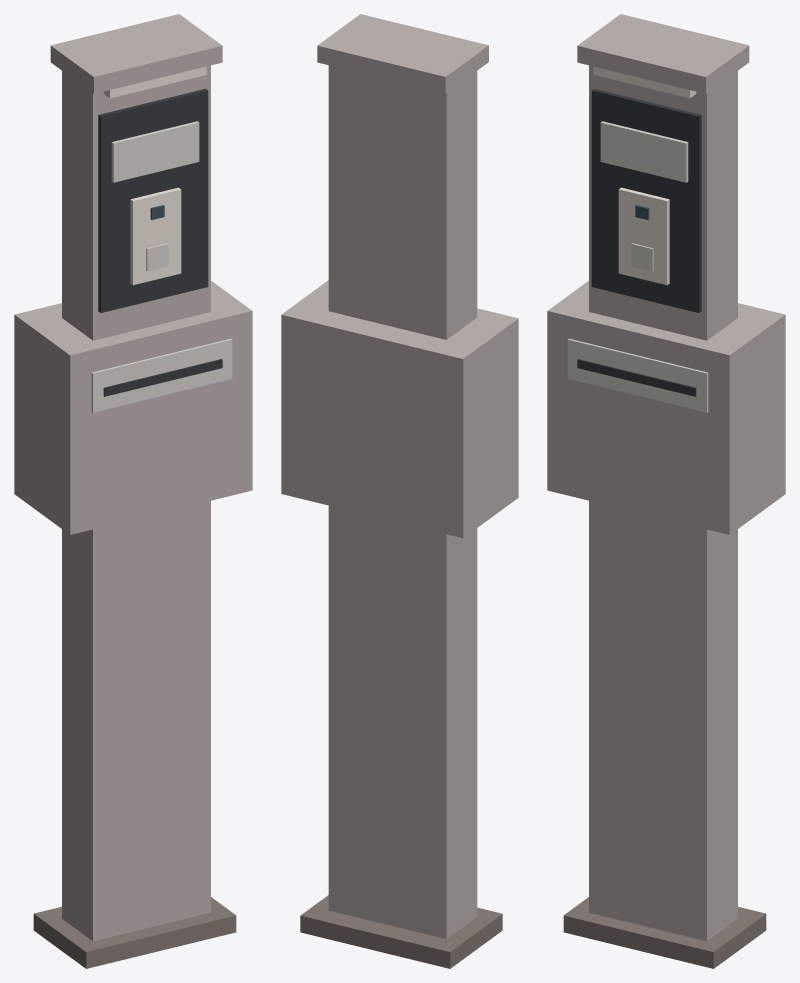
Rendered from SM_Lot_FunctionPost_Silver_Recess_01.gltf.
3 renders of one model, left to right at view 1: azimuth 30°, elevation 25°; view 2: azimuth 150°, elevation 25°; view 3: azimuth 330°, elevation 25°, orthographic.
Visible parts, largest first — view 1: SM_Lot_FunctionPost_Silver_Recess_01; view 2: SM_Lot_FunctionPost_Silver_Recess_01; view 3: SM_Lot_FunctionPost_Silver_Recess_01.
Part boxes in pixels (x1,y1,x2,y2): SM_Lot_FunctionPost_Silver_Recess_01: [14, 14, 252, 968]; SM_Lot_FunctionPost_Silver_Recess_01: [281, 14, 518, 968]; SM_Lot_FunctionPost_Silver_Recess_01: [547, 14, 785, 968].
Bounding box in the file's own units: 0.34 × 1.58 × 0.187.
Materials: 1 (1 with a texture image).
